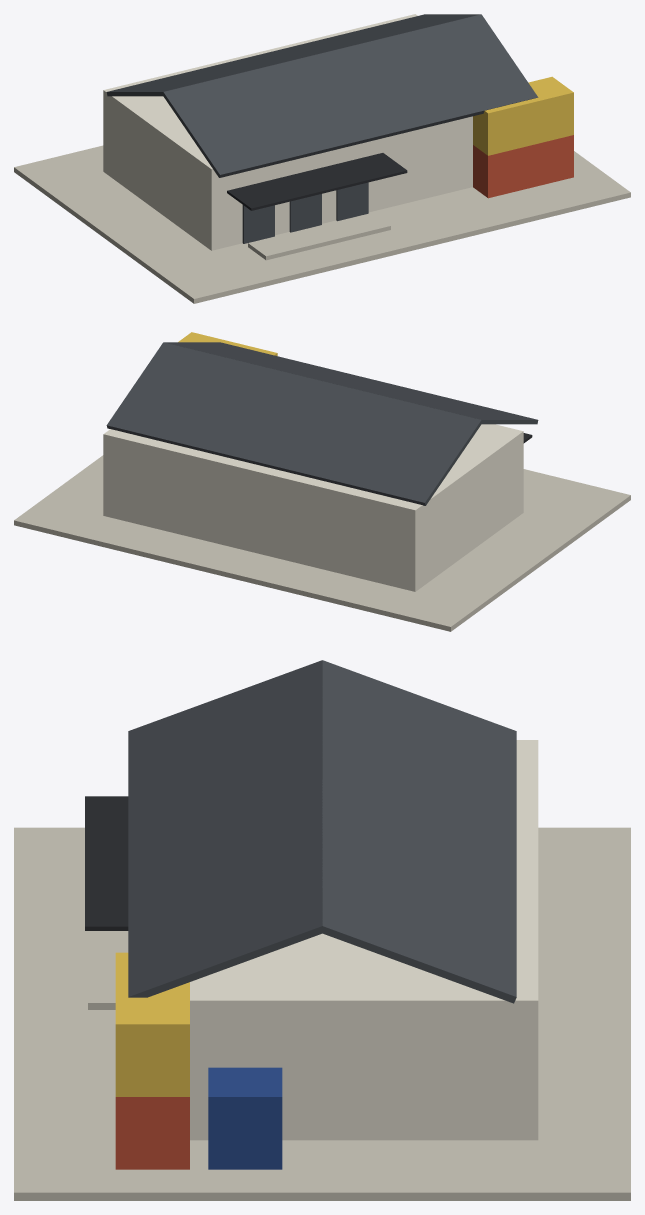
The model's file is building.warehouse.glb.
3 renders of one model, top to bottom at view 1: azimuth 30°, elevation 25°; view 2: azimuth 150°, elevation 25°; view 3: azimuth 270°, elevation 25°, orthographic. The views are drawn at different scales.
Parts seen in each view (by area): view 1: building.warehouse; view 2: building.warehouse; view 3: building.warehouse.
Part boxes in pixels (x1,y1,x2,y2): building.warehouse: [14, 14, 630, 303]; building.warehouse: [14, 332, 630, 631]; building.warehouse: [14, 660, 630, 1200].
Size of the model in its own units: 28 by 8.06 by 20.
